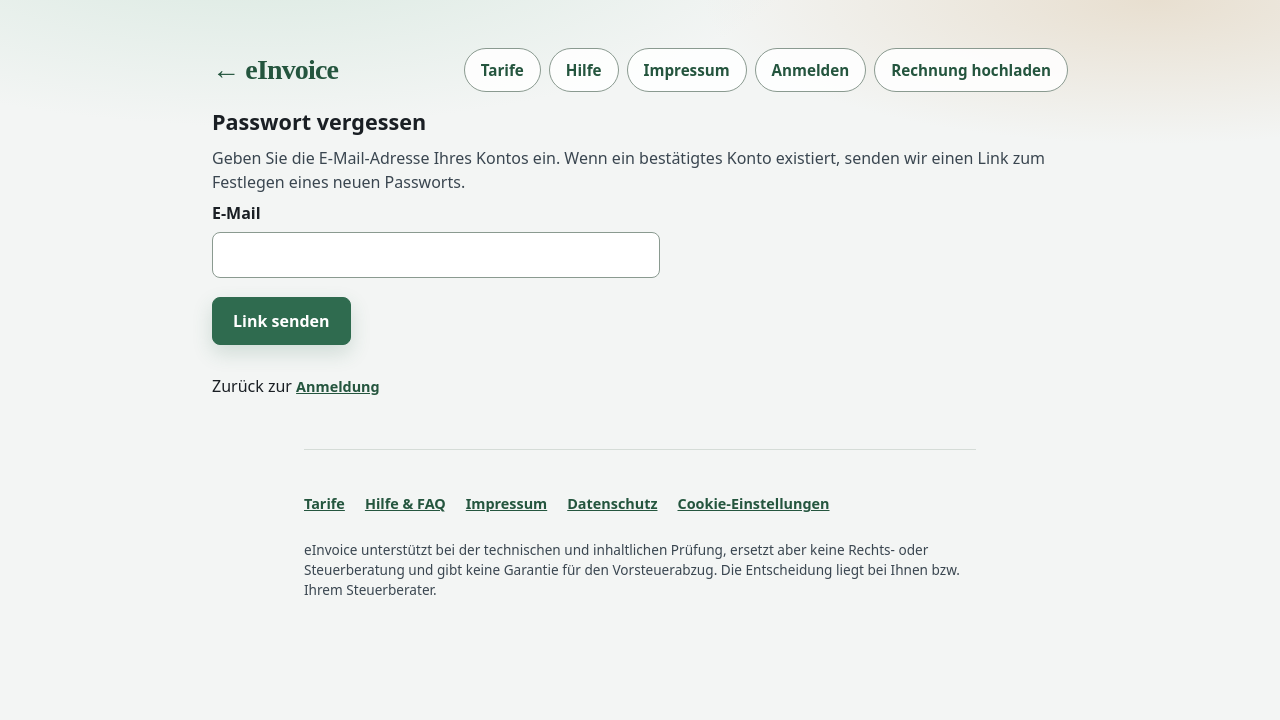
ForgotPasswordPage › sends a reset mail for the entered address
Type "meister@example.com" into the field labelled "E-Mail" at point(436, 255), box [212, 232, 660, 278]
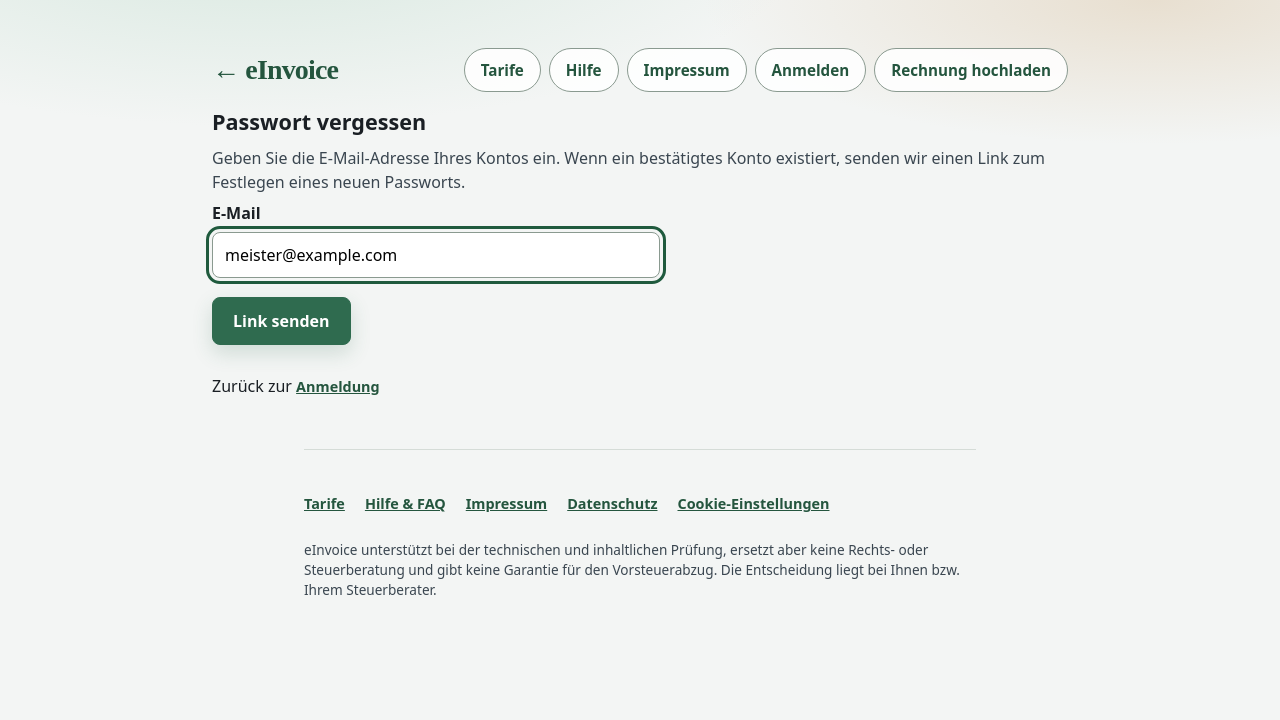
Click the button "Link senden" at point(281, 321), box [212, 297, 350, 345]
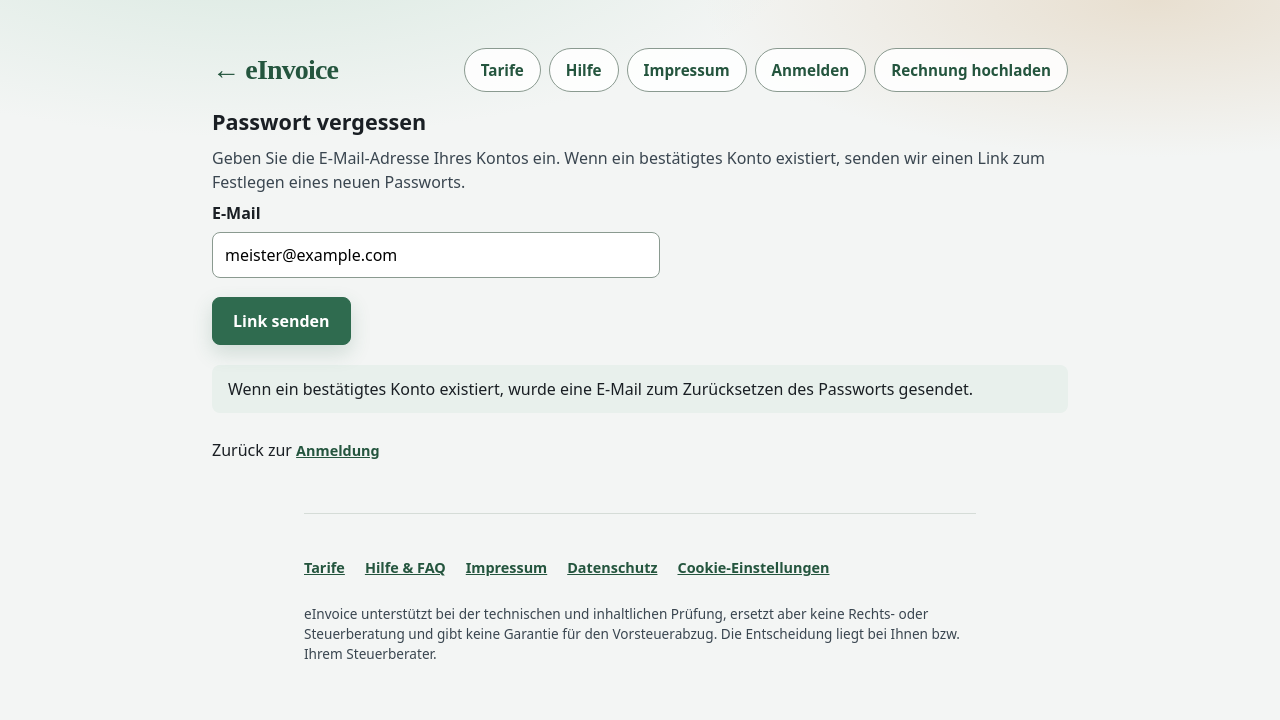
Now the message shows "Wenn ein bestätigtes Konto existiert, wurde eine E-Mail zum Zurücksetzen des Passworts gesendet.", box [228, 378, 973, 400]
